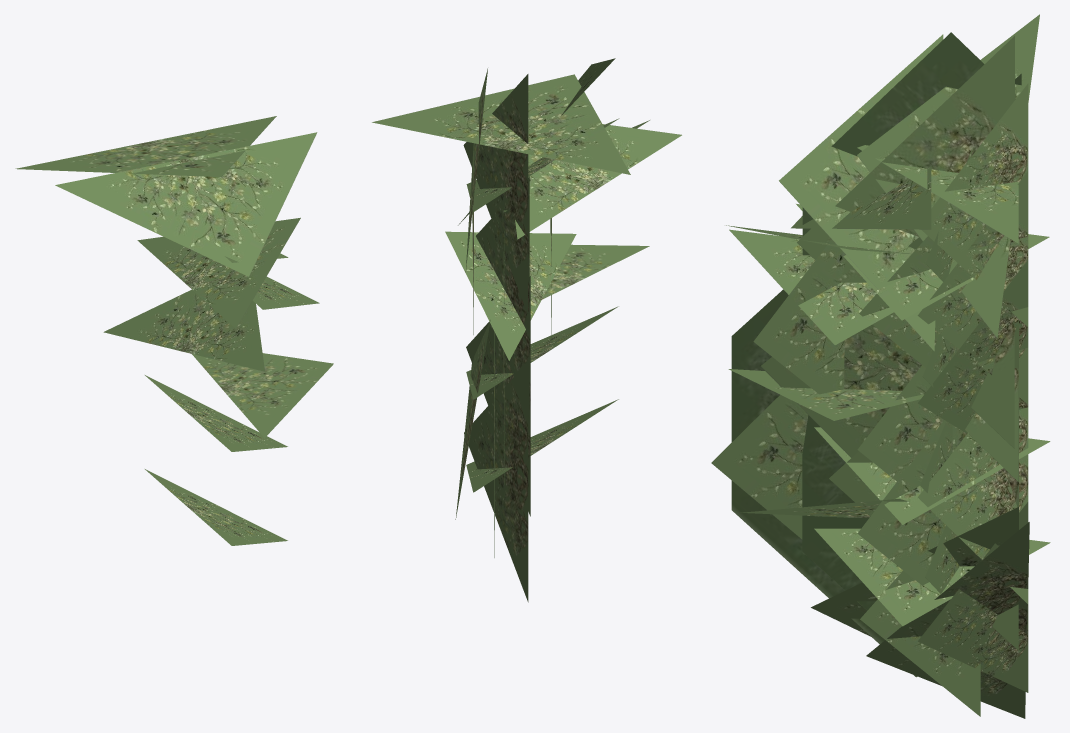
The model's file is caen_hedge_wall_1.glb.
The picture shows the model from 3 angles, left to right: view 1: azimuth 30°, elevation 25°; view 2: azimuth 150°, elevation 25°; view 3: azimuth 270°, elevation 25°; orthographic projection. The views are drawn at different scales.
Bounding box in the file's own units: 180 × 443 × 189.
Materials: 1 (1 with a texture image).
